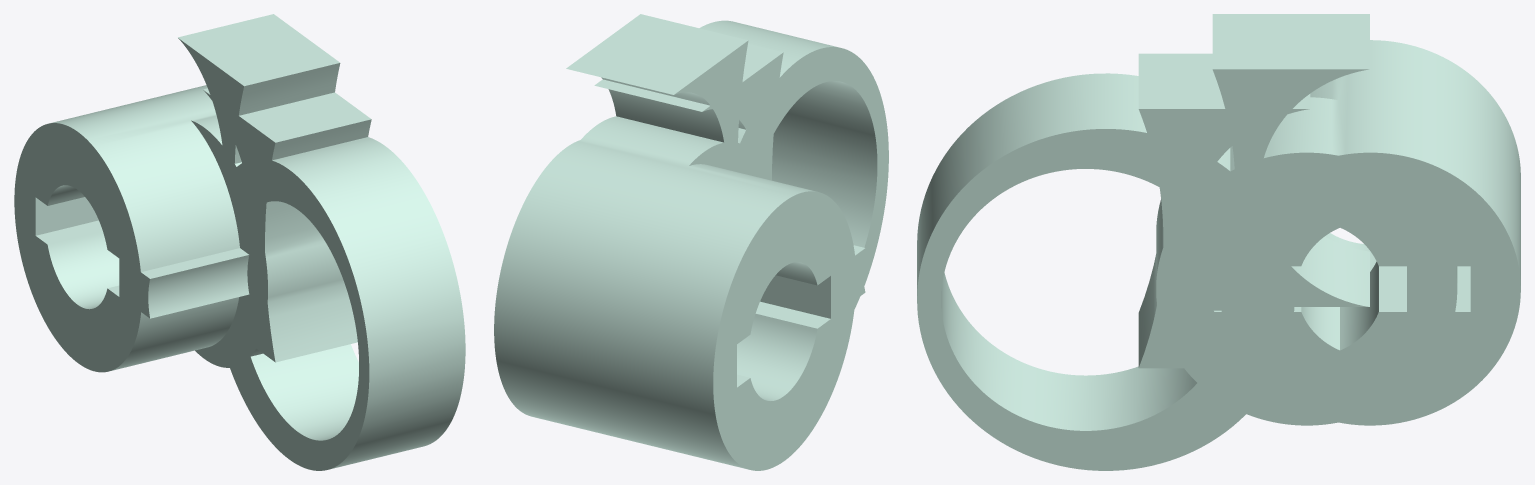
3 renders of one model, left to right at view 1: azimuth 30°, elevation 25°; view 2: azimuth 150°, elevation 25°; view 3: azimuth 270°, elevation 25°, orthographic. The views are drawn at different scales.
Visible parts, largest first — view 1: Renderer Node; view 2: Renderer Node; view 3: Renderer Node.
Boxes of the visible parts, box(x1,y1,x2,y2) form: Renderer Node: box(14, 14, 465, 470); Renderer Node: box(494, 14, 888, 470); Renderer Node: box(917, 14, 1520, 470).
Bounding box in the file's own units: 0.5234 × 0.8711 × 1.19.
